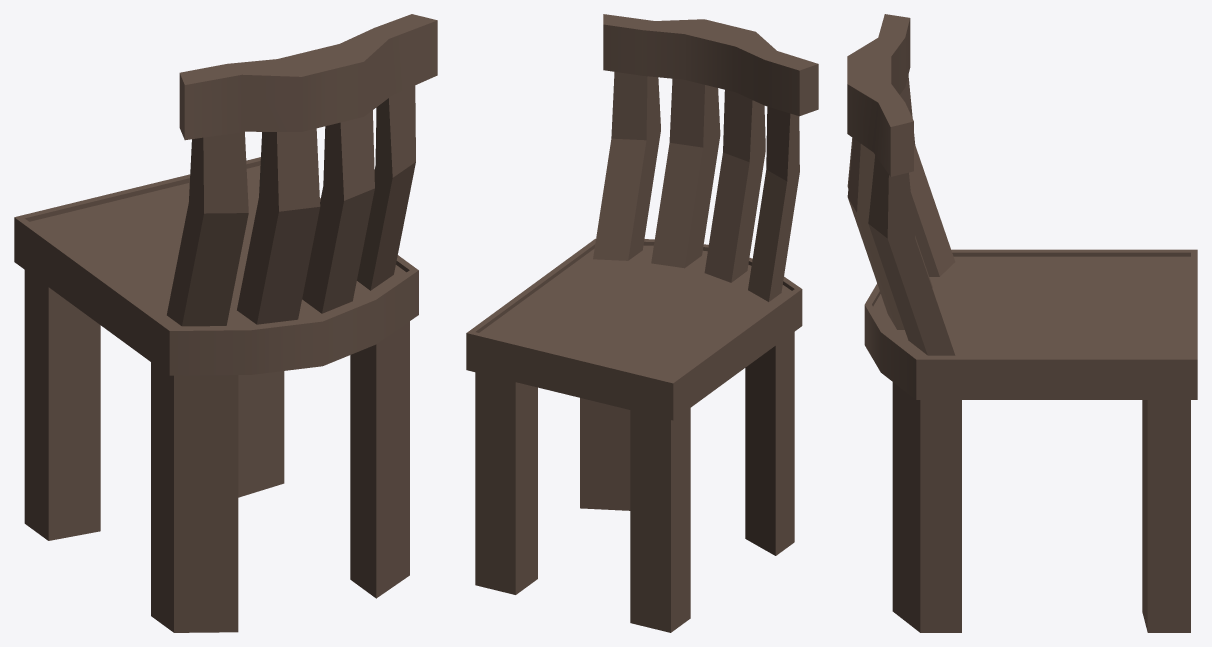
The model's file is Cocina_Silla_17.fbx.
3 renders of one model, left to right at view 1: azimuth 30°, elevation 25°; view 2: azimuth 150°, elevation 25°; view 3: azimuth 270°, elevation 25°, orthographic. The views are drawn at different scales.
Parts seen in each view (by area): view 1: Silla001; view 2: Silla001; view 3: Silla001.
Part boxes in pixels (bbox=[...]): Silla001: bbox=[14, 14, 437, 632]; Silla001: bbox=[466, 14, 818, 632]; Silla001: bbox=[847, 14, 1197, 632].
Size of the model in its own units: 35.34 by 74.38 by 46.27.
1 material, 1 textured.
